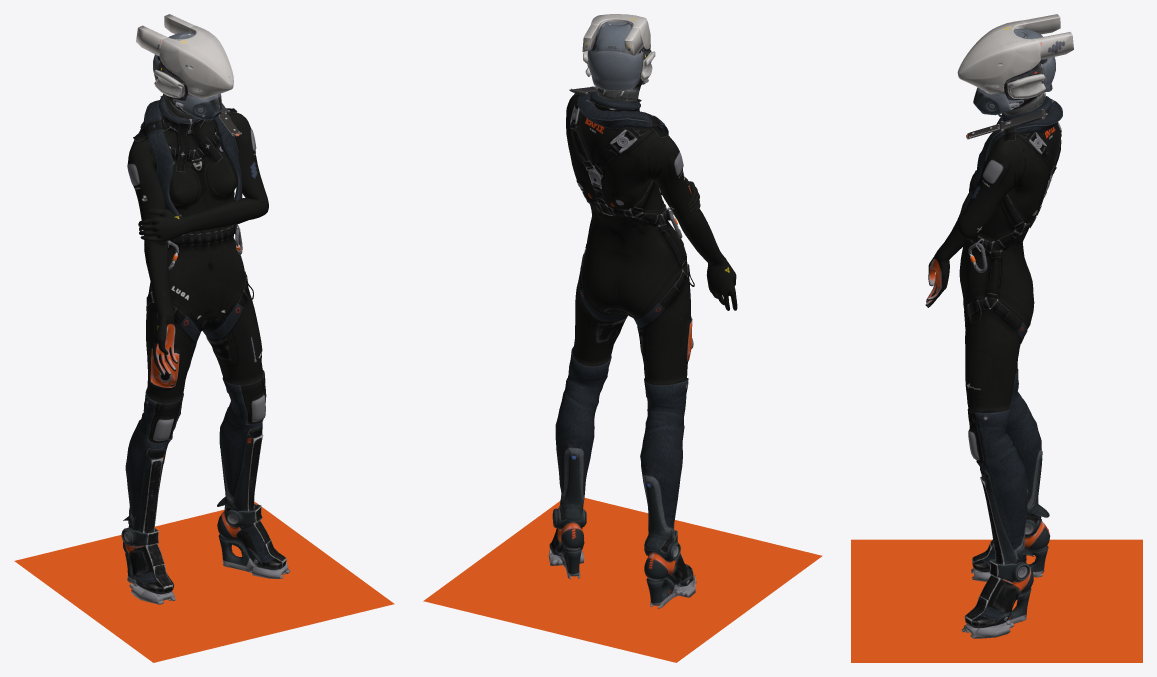
The picture shows the model from 3 angles, left to right: view 1: azimuth 30°, elevation 25°; view 2: azimuth 150°, elevation 25°; view 3: azimuth 270°, elevation 25°; orthographic projection. The views are drawn at different scales.
Visible parts, largest first — view 1: lowpoly mesh_0; view 2: lowpoly mesh_0; view 3: lowpoly mesh_0.
Boxes of the visible parts, left/top/right/bottom form: lowpoly mesh_0: left=14, top=14, right=394, bottom=662; lowpoly mesh_0: left=423, top=14, right=822, bottom=662; lowpoly mesh_0: left=851, top=14, right=1142, bottom=662.
Bounding box in the file's own units: 7.5 × 16.14 × 7.5.
Materials: 6 (5 with a texture image).
